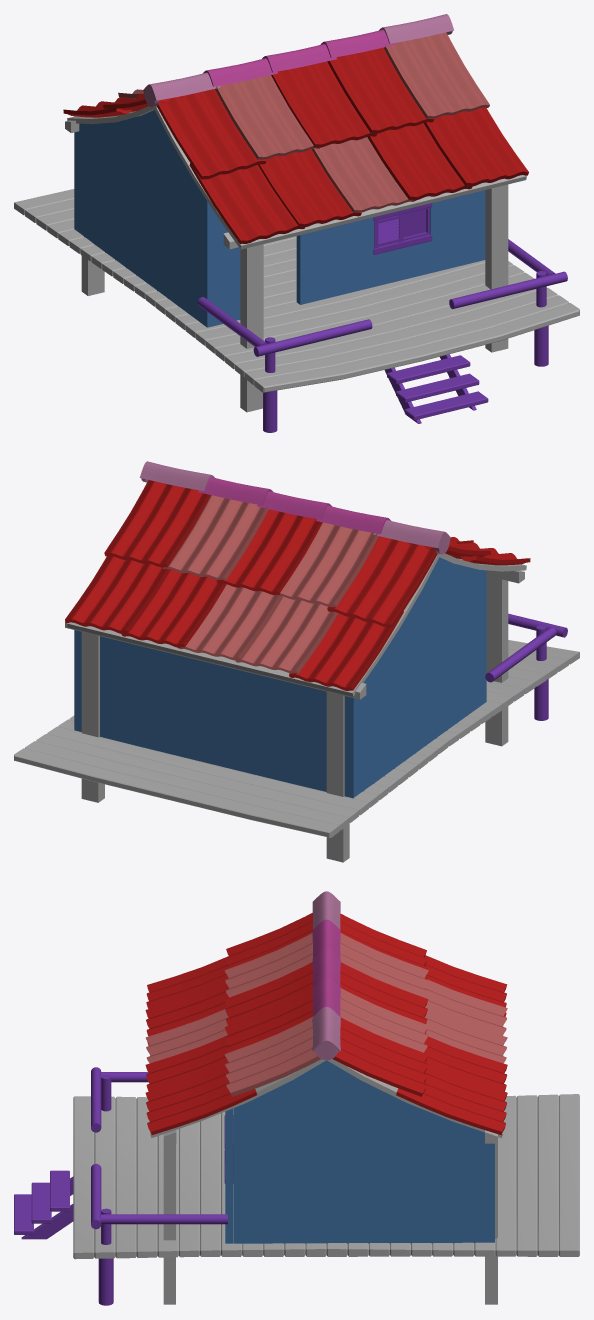
The model's file is Shack complete model.fbx.
3 views of the same model, one above another, from view 1: azimuth 30°, elevation 25°; view 2: azimuth 150°, elevation 25°; view 3: azimuth 270°, elevation 25° (orthographic).
Visible parts, largest first — view 1: floor, side_low, front1, pillar, polySurface22, polySurface30, polySurface28, polySurface29, polySurface21, polySurface25, polySurface27, polySurface23 (+18 smaller); view 2: back_low, floor, side_low, polySurface33, polySurface31, pillar_back, polySurface40, polySurface38, polySurface39, polySurface32, polySurface41, polySurface37 (+13 smaller); view 3: side_low, floor, polySurface22, polySurface33, polySurface38, polySurface21, polySurface40, polySurface39, polySurface25, pCylinder2, polySurface29, polySurface28 (+25 smaller).
Boxes of the visible parts, x1=… form: floor: x1=14, y1=189, x2=579, y2=392; side_low: x1=78, y1=110, x2=203, y2=324; front1: x1=203, y1=190, x2=485, y2=327; pillar: x1=240, y1=184, x2=508, y2=412; polySurface22: x1=384, y1=32, x2=489, y2=118; polySurface30: x1=157, y1=89, x2=266, y2=179; polySurface28: x1=327, y1=47, x2=434, y2=133; polySurface29: x1=271, y1=61, x2=376, y2=147; polySurface21: x1=424, y1=107, x2=528, y2=186; polySurface25: x1=215, y1=75, x2=319, y2=159; polySurface27: x1=189, y1=163, x2=304, y2=243; polySurface23: x1=367, y1=123, x2=472, y2=200; back_low: x1=74, y1=630, x2=357, y2=798; floor: x1=14, y1=640, x2=579, y2=837; side_low: x1=357, y1=557, x2=482, y2=794; polySurface33: x1=104, y1=480, x2=210, y2=567; polySurface31: x1=327, y1=536, x2=437, y2=627; pillar_back: x1=81, y1=632, x2=349, y2=862; polySurface40: x1=163, y1=495, x2=268, y2=580; polySurface38: x1=65, y1=556, x2=170, y2=633; polySurface39: x1=274, y1=522, x2=378, y2=606; polySurface32: x1=216, y1=509, x2=322, y2=594; polySurface41: x1=235, y1=596, x2=338, y2=673; polySurface37: x1=121, y1=569, x2=226, y2=647; side_low: x1=233, y1=1060, x2=487, y2=1243; floor: x1=73, y1=1094, x2=579, y2=1259; polySurface22: x1=224, y1=1016, x2=320, y2=1096; polySurface33: x1=332, y1=1017, x2=428, y2=1096; polySurface38: x1=396, y1=1064, x2=507, y2=1135; polySurface21: x1=145, y1=1064, x2=256, y2=1134; polySurface40: x1=340, y1=987, x2=428, y2=1052; polySurface39: x1=340, y1=933, x2=428, y2=997; polySurface25: x1=224, y1=933, x2=312, y2=997; pCylinder2: x1=312, y1=919, x2=340, y2=1022; polySurface29: x1=225, y1=962, x2=312, y2=1025; polySurface28: x1=225, y1=990, x2=312, y2=1062.
Bounding box in the file's own units: 8.79 × 7.22 × 13.4.
